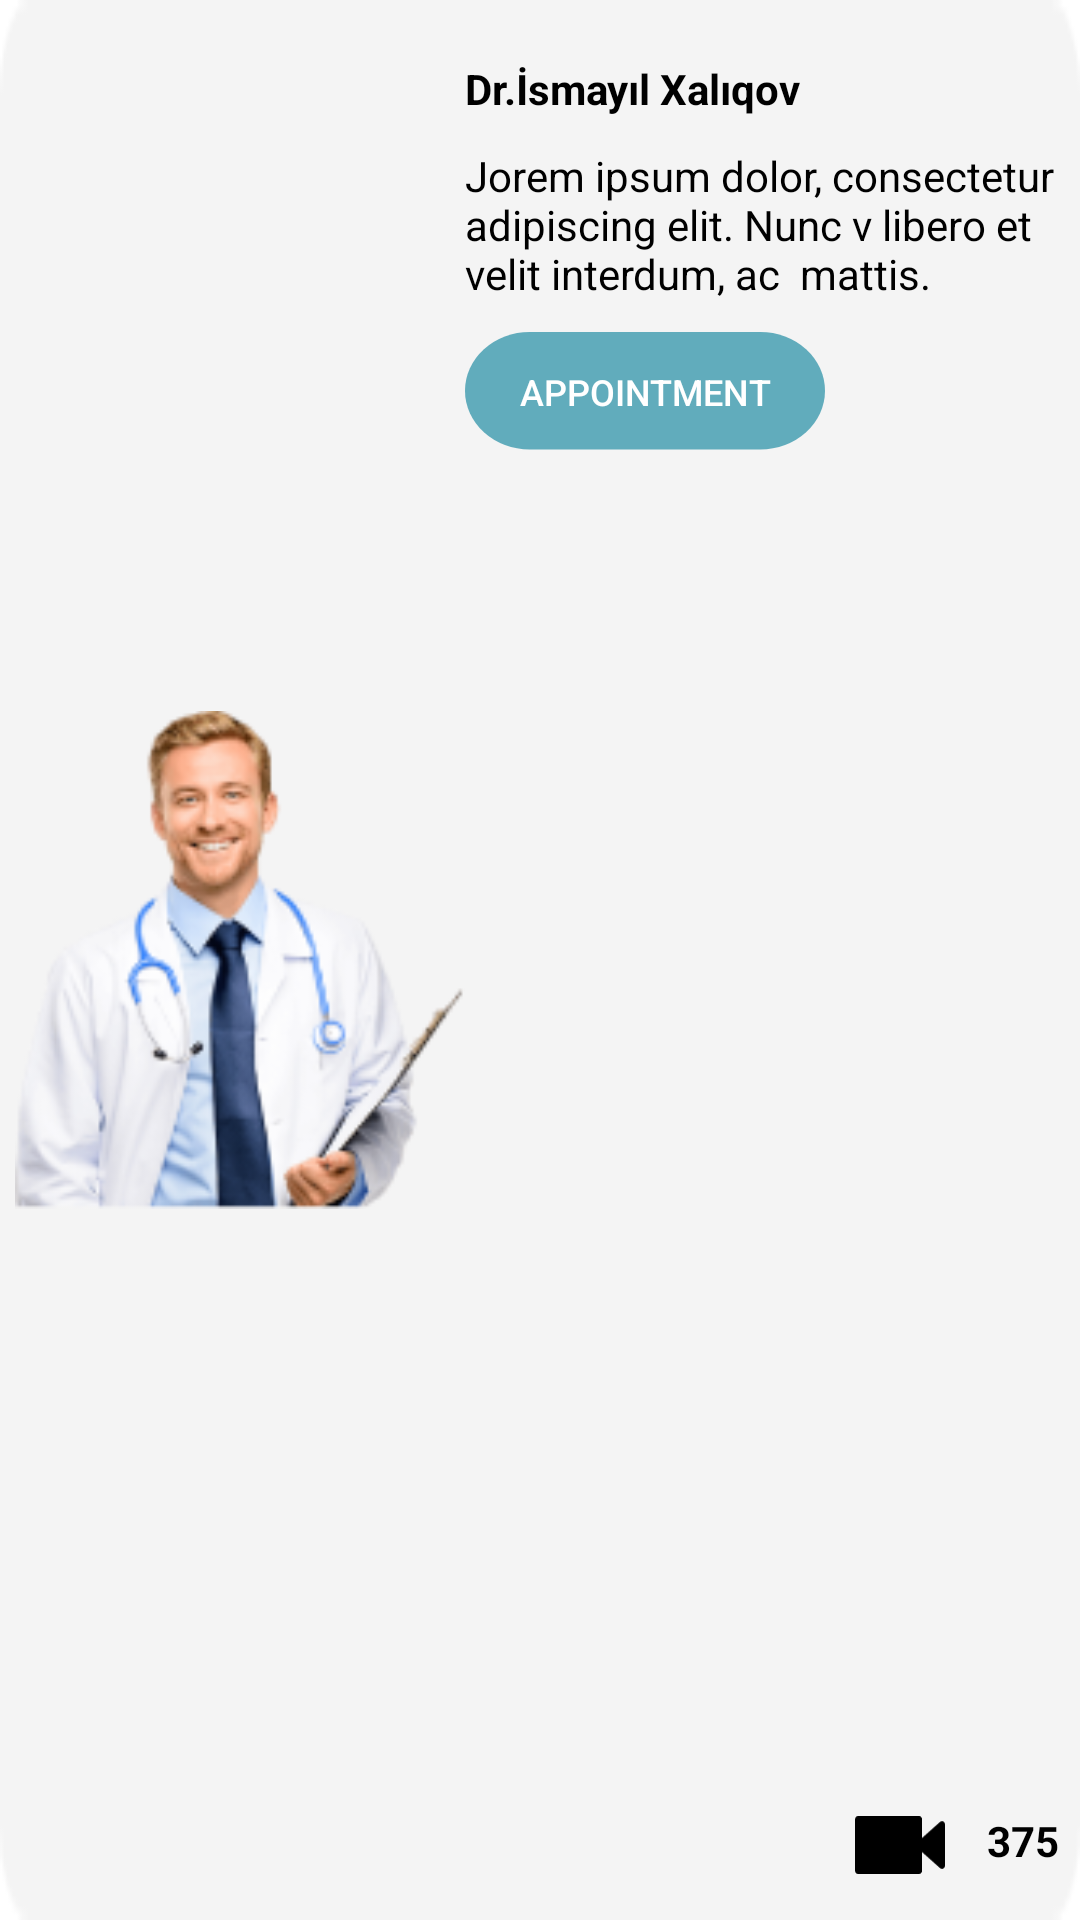

Icons on this 1080 x 1920 Android screen, each with its box as detection(x1, y1, x2, y2):
camera: detection(855, 1816, 945, 1874)
